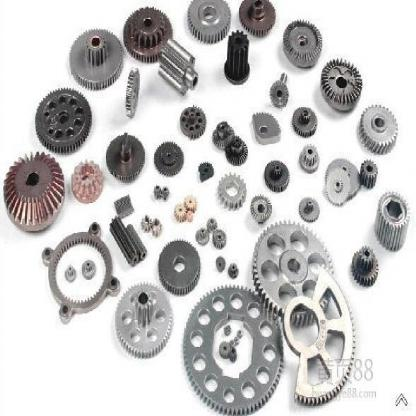FOD: (181, 280, 283, 414), (251, 217, 337, 328), (114, 279, 174, 365), (33, 84, 93, 154), (68, 25, 126, 92), (124, 0, 175, 64), (372, 186, 410, 254), (186, 0, 234, 46), (358, 100, 398, 154), (222, 27, 252, 91), (349, 243, 379, 287), (153, 140, 185, 180), (216, 169, 247, 210), (179, 102, 208, 140), (262, 158, 292, 194), (124, 65, 140, 120), (297, 142, 320, 175), (358, 157, 379, 190), (212, 227, 228, 250), (184, 192, 198, 214), (195, 226, 210, 246), (173, 201, 186, 222), (141, 210, 151, 233), (206, 216, 218, 231), (186, 209, 194, 225)
